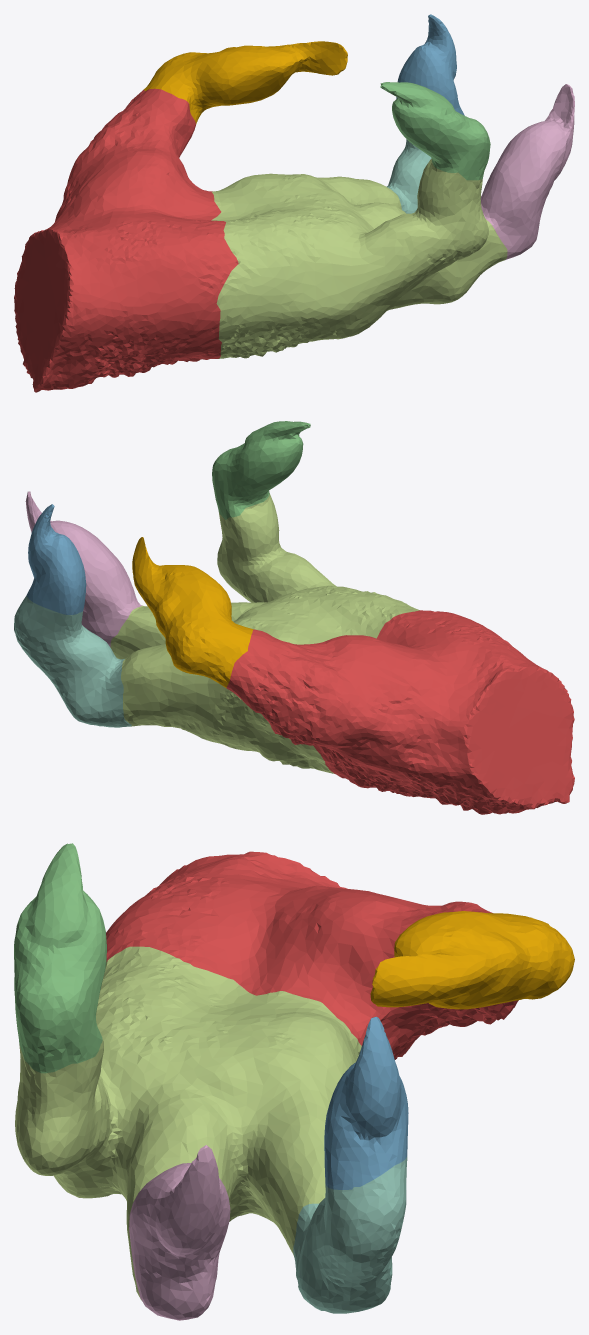
Rendered from mode_7_8pcs.glb.
The picture shows the model from 3 angles, top to bottom: view 1: azimuth 30°, elevation 25°; view 2: azimuth 150°, elevation 25°; view 3: azimuth 270°, elevation 25°; orthographic projection. The views are drawn at different scales.
Visible parts, largest first — view 1: piece_1.obj, piece_5.obj, piece_0.obj, piece_6.obj, piece_3.obj, piece_2.obj, piece_4.obj; view 2: piece_1.obj, piece_5.obj, piece_0.obj, piece_4.obj, piece_3.obj, piece_6.obj, piece_2.obj; view 3: piece_5.obj, piece_1.obj, piece_3.obj, piece_0.obj, piece_6.obj, piece_4.obj, piece_2.obj.
Boxes of the visible parts, x1,y1,x2,y2 form: piece_1.obj: (14, 88, 238, 392); piece_5.obj: (211, 159, 507, 358); piece_0.obj: (143, 41, 347, 124); piece_6.obj: (480, 84, 574, 259); piece_3.obj: (380, 82, 490, 180); piece_2.obj: (396, 14, 464, 115); piece_4.obj: (386, 139, 431, 213); piece_1.obj: (226, 610, 574, 814); piece_5.obj: (110, 493, 419, 773); piece_0.obj: (132, 537, 253, 688); piece_4.obj: (14, 596, 131, 727); piece_3.obj: (212, 421, 310, 519); piece_6.obj: (25, 491, 141, 647); piece_2.obj: (26, 504, 86, 614); piece_5.obj: (15, 946, 361, 1300); piece_1.obj: (106, 851, 518, 1059); piece_3.obj: (14, 843, 106, 1073); piece_0.obj: (370, 911, 574, 1009); piece_6.obj: (129, 1145, 230, 1320); piece_4.obj: (293, 1156, 407, 1313); piece_2.obj: (324, 1016, 408, 1189).
Size of the model in its own units: 1 by 0.497 by 0.604.
